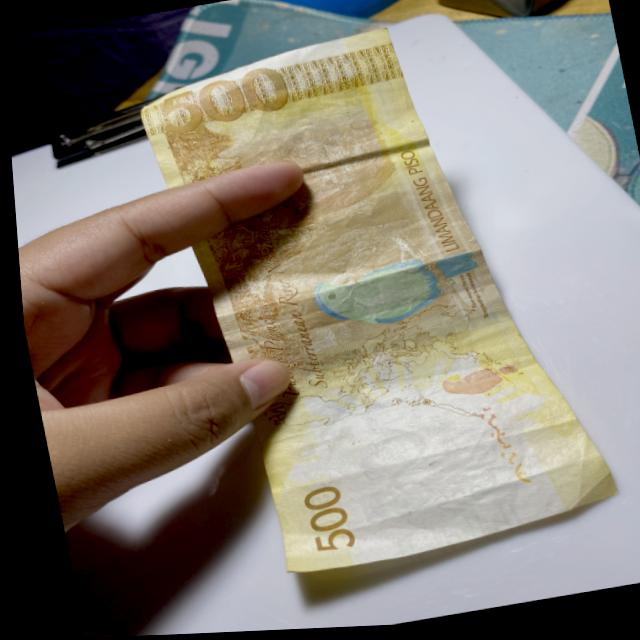500_big_parrot: (300, 247, 483, 335)
500_parrot_watermark: (432, 363, 522, 408)
value_watermark: (424, 485, 483, 517)
